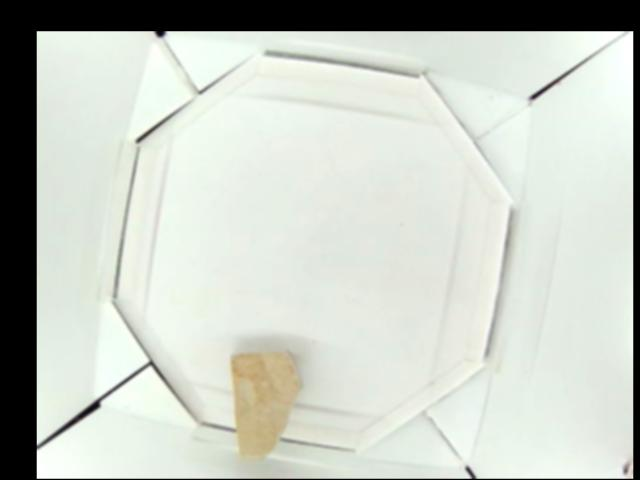China: (231, 354, 303, 461)
